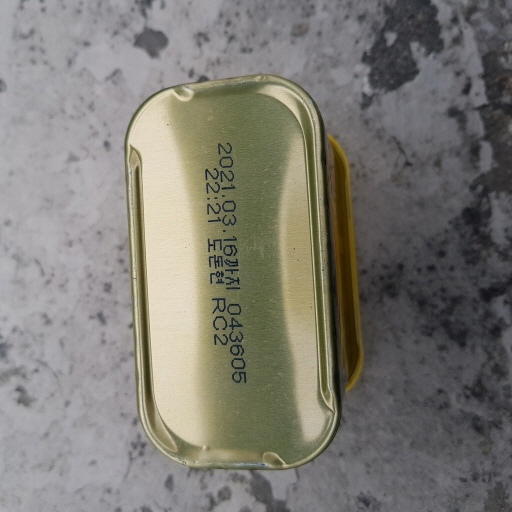Metal_2: (122, 69, 368, 475)
